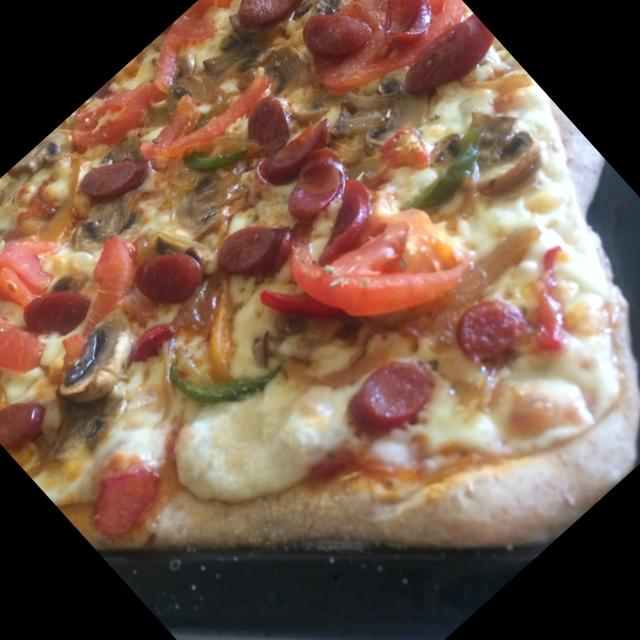mushrooms: (425, 90, 555, 220), (320, 47, 450, 175), (37, 306, 148, 415), (187, 0, 297, 101), (160, 144, 264, 244), (63, 190, 143, 268), (241, 32, 315, 106), (7, 122, 80, 192), (160, 59, 218, 116), (298, 0, 362, 24)
peppers: (152, 304, 287, 438), (392, 120, 496, 220), (174, 121, 247, 193)
